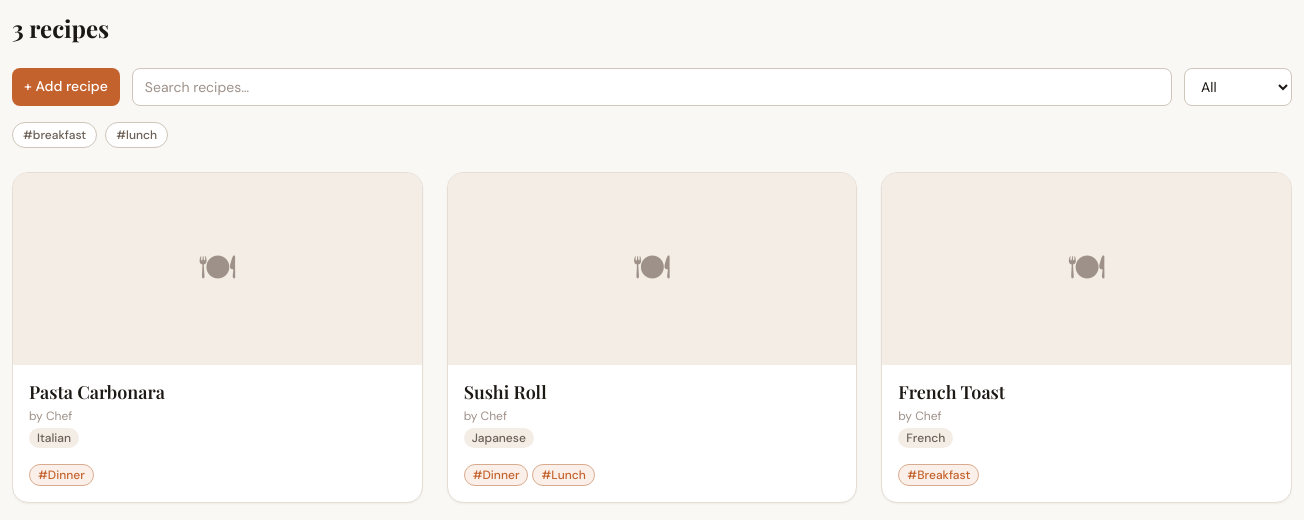
RecipeGrid › filters by tag chip click
Click the button "#breakfast" at [55, 135], box [12,122,97,148]
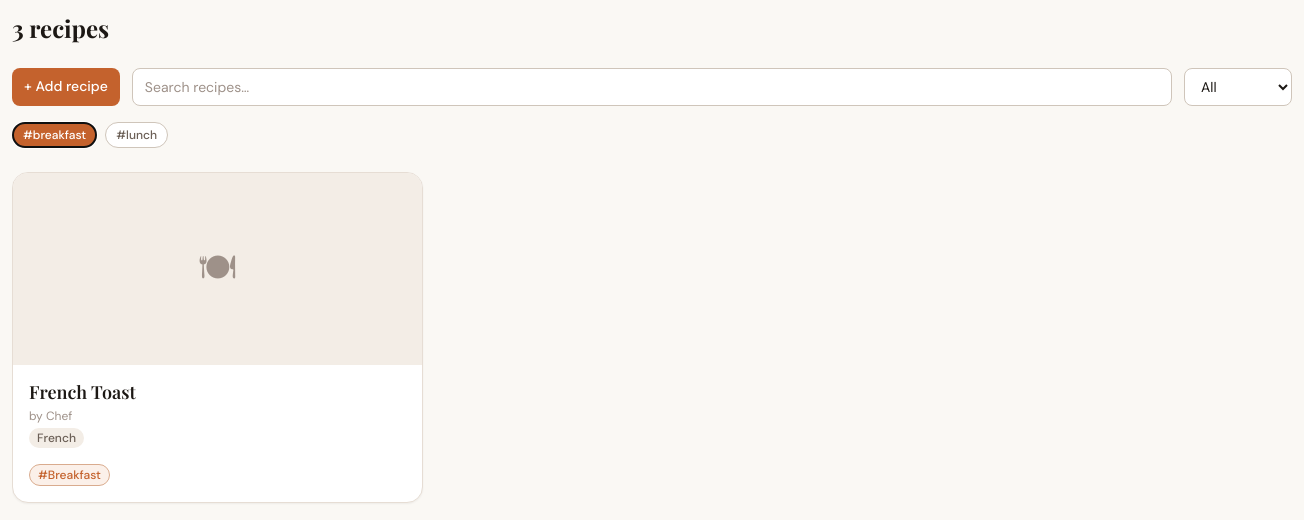
Expected: the heading "French Toast" is shown, [29,380,136,404]
Result: the link "Pasta Carbonara" is gone
